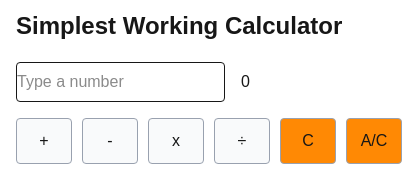
Page › should render 0 when click reset result button
Type "1" into the number field with test id "calculator-input" at {"x": 120, "y": 82}, box [16,62,225,102]
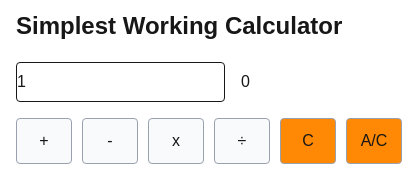
Click the button with test id "btn-add" at {"x": 44, "y": 141}, box [16,118,72,164]
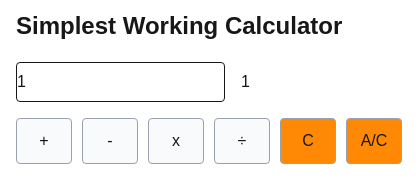
Click the button with test id "btn-reset-result" at {"x": 374, "y": 141}, box [346,118,402,164]
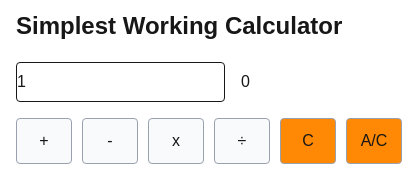
expect the text with test id "calculator-result" reads "0": met, box [241,73,250,90]
